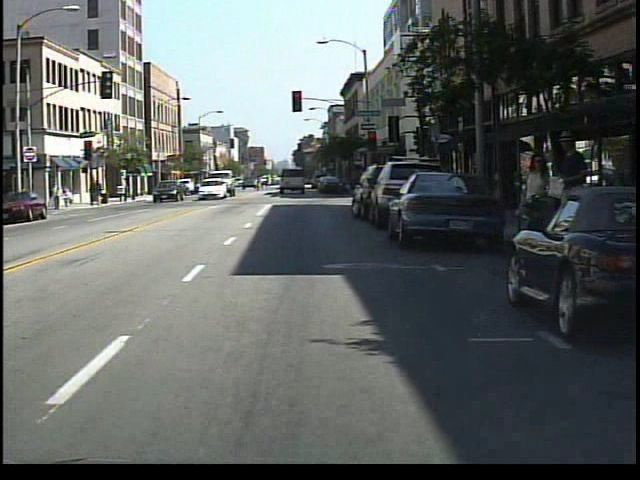person: (554, 126, 593, 276), (518, 148, 553, 275), (49, 183, 63, 215), (60, 185, 76, 211)
